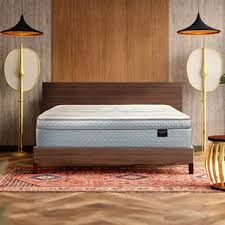bed-matress: (35, 102, 194, 146)
